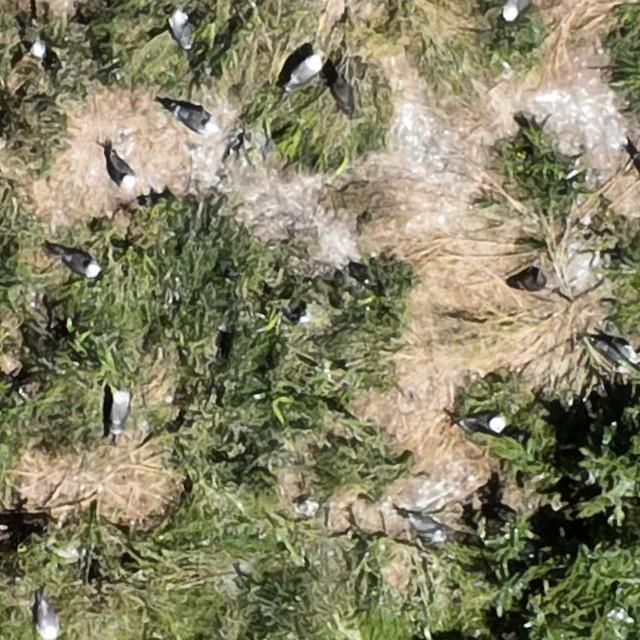umineko: (402, 508, 445, 542), (590, 336, 637, 366), (301, 477, 335, 518), (18, 16, 46, 60), (290, 54, 321, 85), (176, 109, 213, 133), (64, 254, 100, 277), (464, 414, 504, 432), (112, 391, 129, 432), (170, 13, 189, 48), (37, 603, 56, 638), (112, 156, 134, 186), (504, 0, 529, 18)
